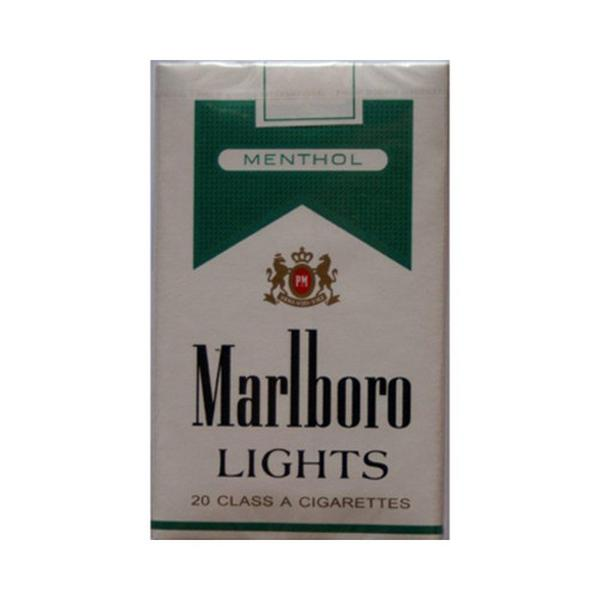marlboro_mentol: (155, 67, 443, 537)
